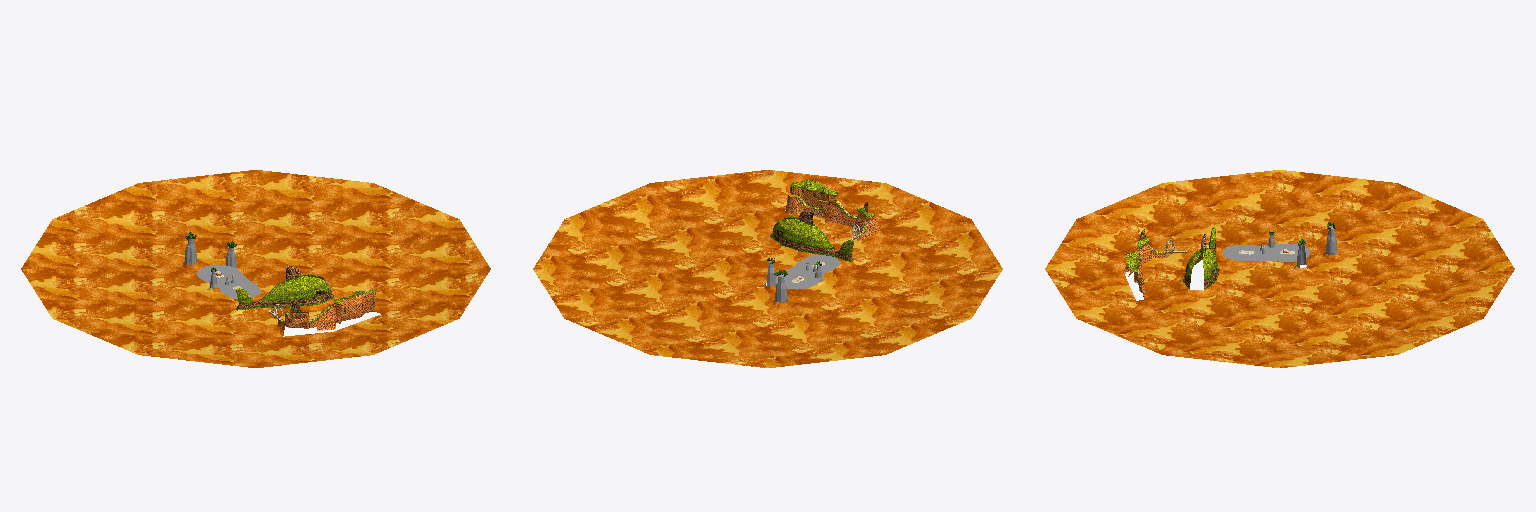
3 renders of one model, left to right at view 1: azimuth 30°, elevation 25°; view 2: azimuth 150°, elevation 25°; view 3: azimuth 270°, elevation 25°, orthographic.
Parts seen in each view (by area): view 1: obj4, obj3, Object_2; view 2: obj4, obj3, Object_2; view 3: obj4, obj3, Object_2.
Part boxes in pixels (x1,y1,x2,y2): obj4: (21,170,490,367); obj3: (196,264,260,298); Object_2: (182,262,339,335); obj4: (533,170,1002,367); obj3: (775,255,840,289); Object_2: (763,211,880,306); obj4: (1045,170,1514,367); obj3: (1223,244,1310,261); Object_2: (1142,247,1339,299).
Bounding box in the file's own units: 18200 × 1611 × 18200.
Materials: 35 (22 with a texture image).